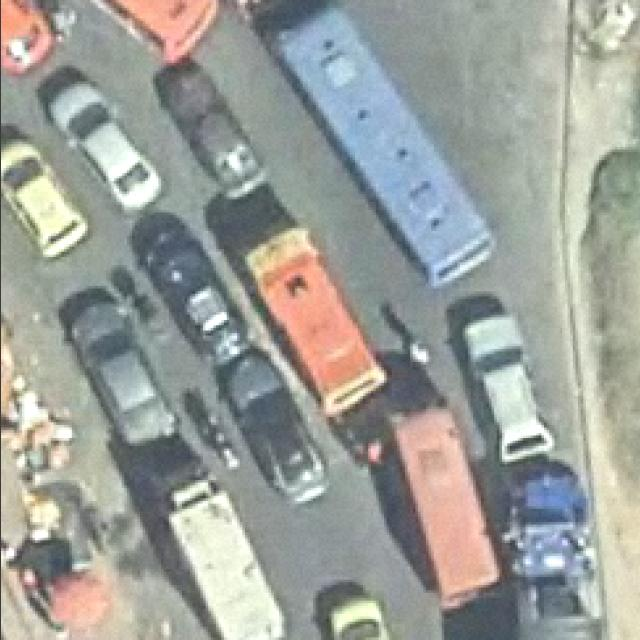vendedor_ambulante: (42, 564, 113, 640)
